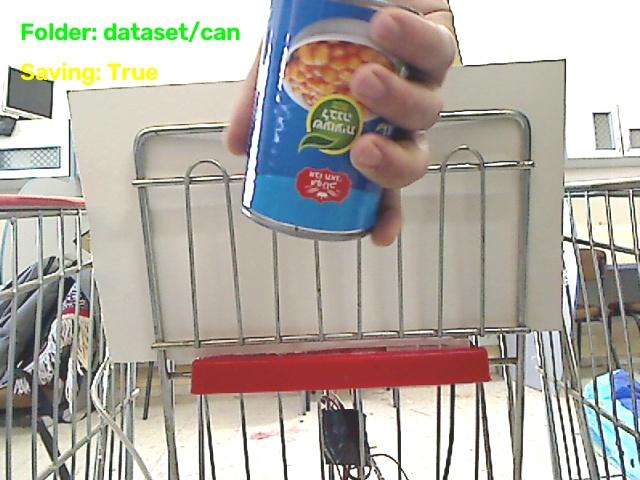can: (242, 0, 404, 239)
